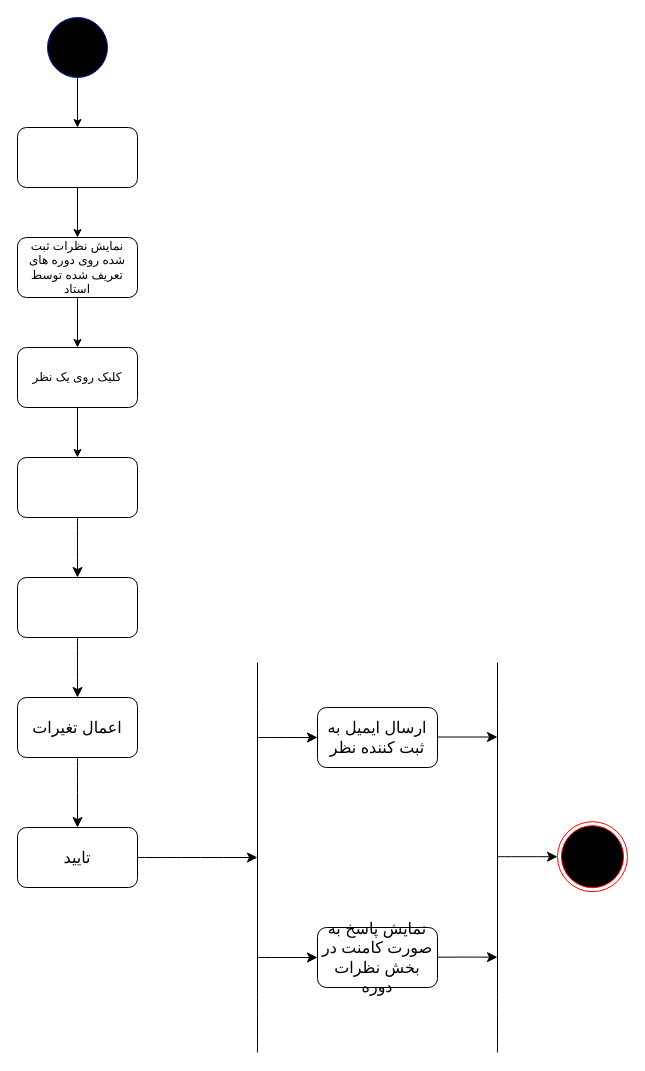
Image size: 645x1071. Some labels were removed from this diagram. Each missing label, with the centre of its shape:
باز شدن تکست باکس حاوی نظر قبلی: the point at 77,607
زدن روی مشاهده نظرات: the point at 77,157
زدن روی ویرایش بازخورد: the point at 77,487
